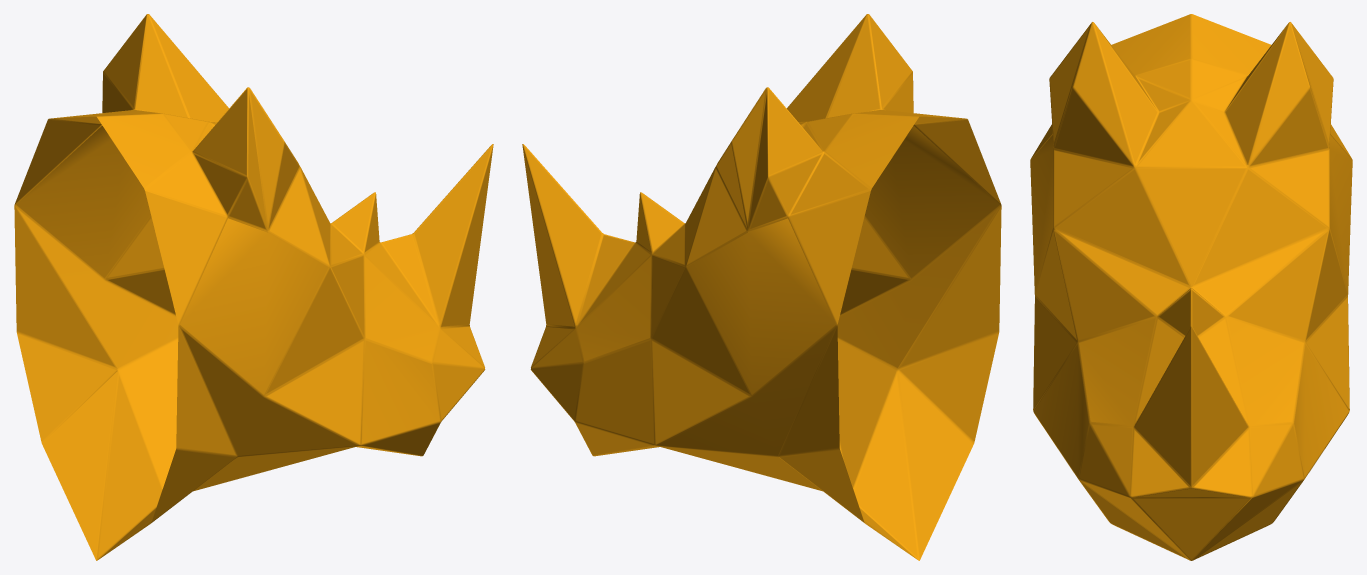
Rendered from poligonRhinoGold.gltf.
3 views of the same model, side by side, from view 1: azimuth 30°, elevation 25°; view 2: azimuth 150°, elevation 25°; view 3: azimuth 270°, elevation 25° (orthographic).
Parts seen in each view (by area): view 1: poligonRhinoGold; view 2: poligonRhinoGold; view 3: poligonRhinoGold.
Part boxes in pixels (<box>): poligonRhinoGold: <box>14,14,493,560</box>; poligonRhinoGold: <box>522,14,1001,560</box>; poligonRhinoGold: <box>1030,14,1352,560</box>.
Size of the model in its own units: 3.39 by 3.96 by 2.43.
